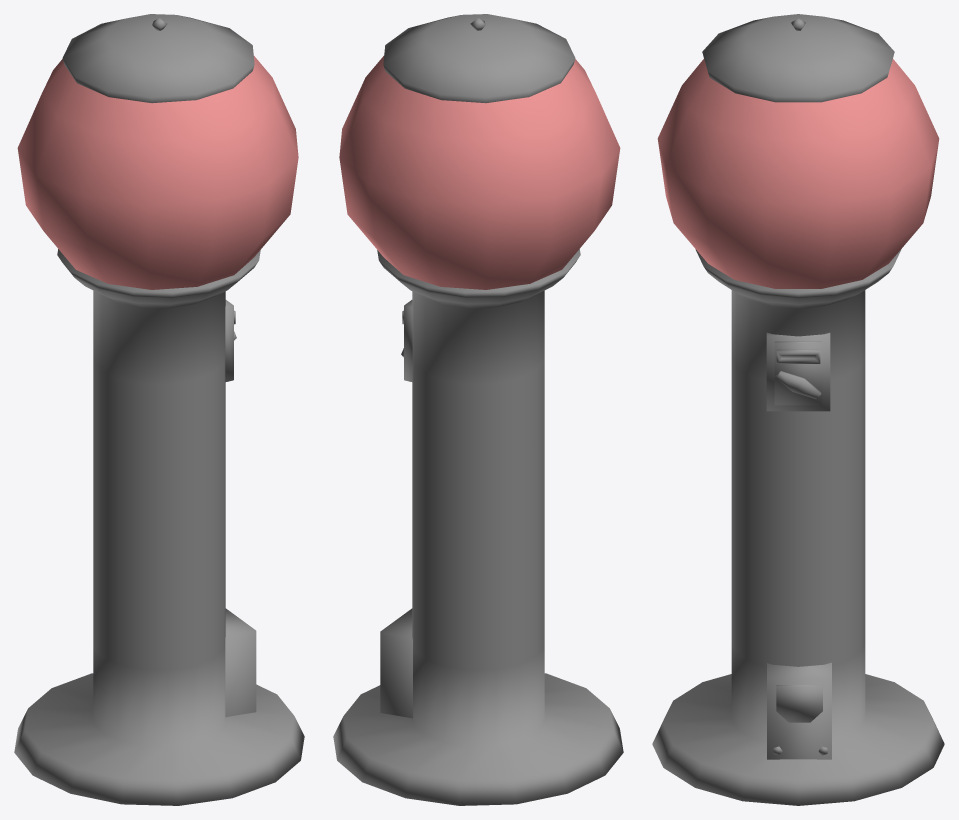
Rendered from SM_candy_machine_2a.gltf.
3 views of the same model, side by side, from view 1: azimuth 30°, elevation 25°; view 2: azimuth 150°, elevation 25°; view 3: azimuth 270°, elevation 25° (orthographic).
Visible parts, largest first — view 1: SM_candy_machine_2a; view 2: SM_candy_machine_2a; view 3: SM_candy_machine_2a.
Part boxes in pixels (<box>): SM_candy_machine_2a: <box>14,14,304,805</box>; SM_candy_machine_2a: <box>333,14,623,805</box>; SM_candy_machine_2a: <box>652,14,944,805</box>.
Size of the model in its own units: 0.5222 by 1.43 by 0.5222.
